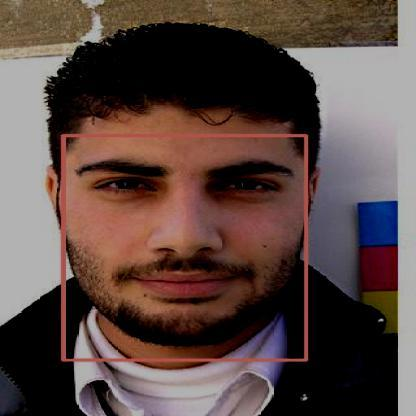without_mask: (63, 135, 306, 360)
